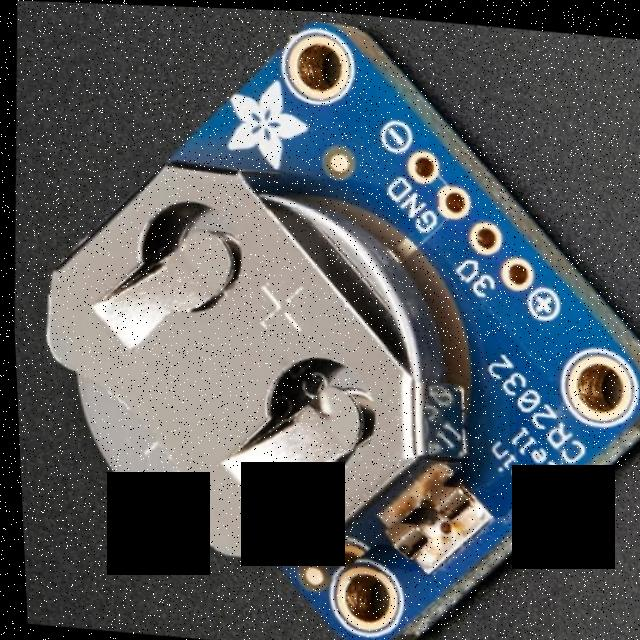battery: (15, 140, 463, 585)
